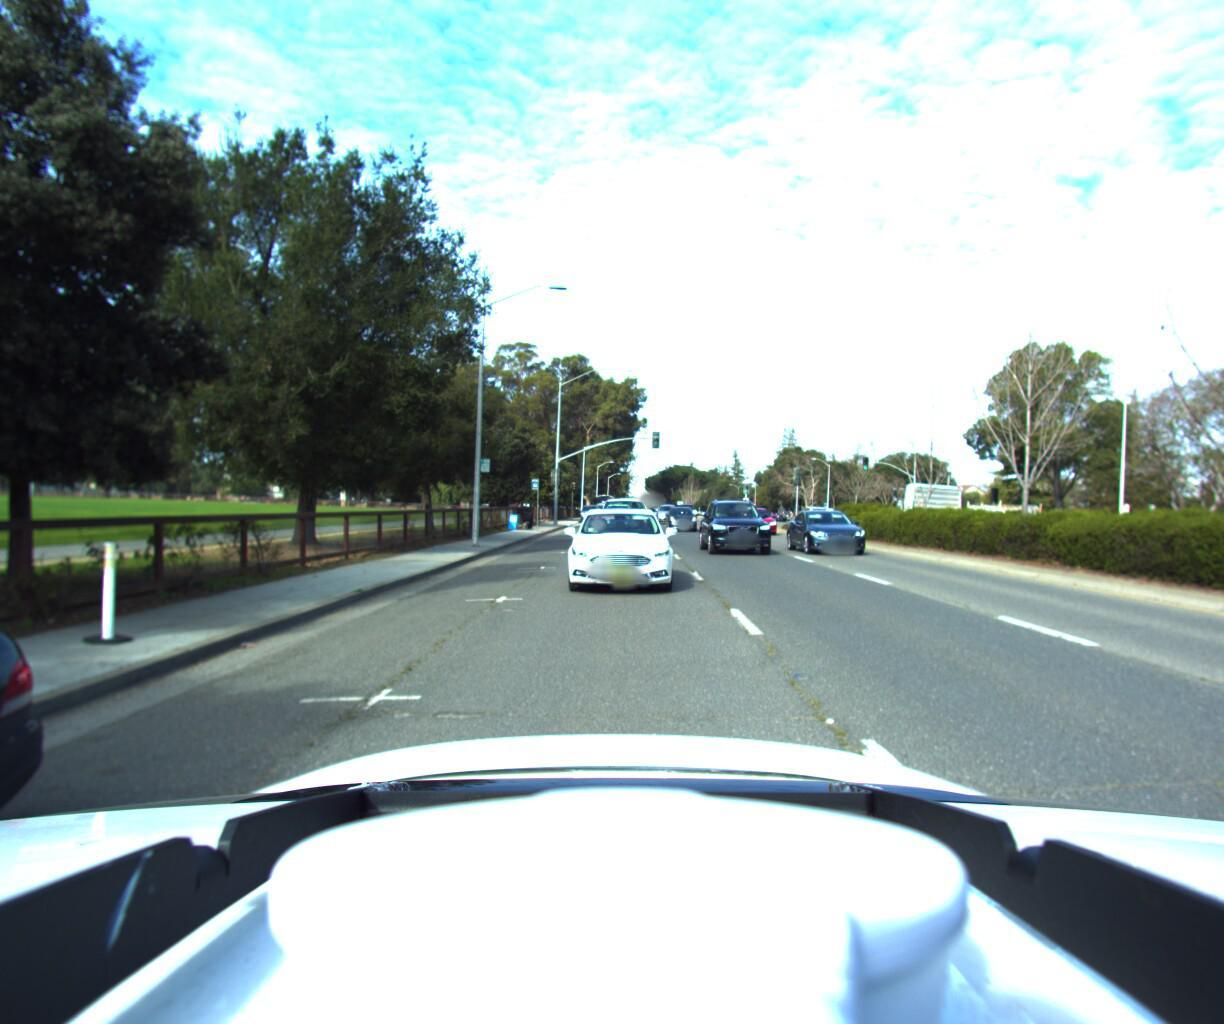car: (563, 499, 675, 596), (699, 494, 779, 558), (787, 504, 882, 557), (591, 493, 646, 542), (741, 507, 793, 537), (665, 502, 705, 534), (654, 505, 680, 525), (578, 503, 601, 523)
truck: (877, 454, 1033, 545), (948, 499, 1047, 542)
